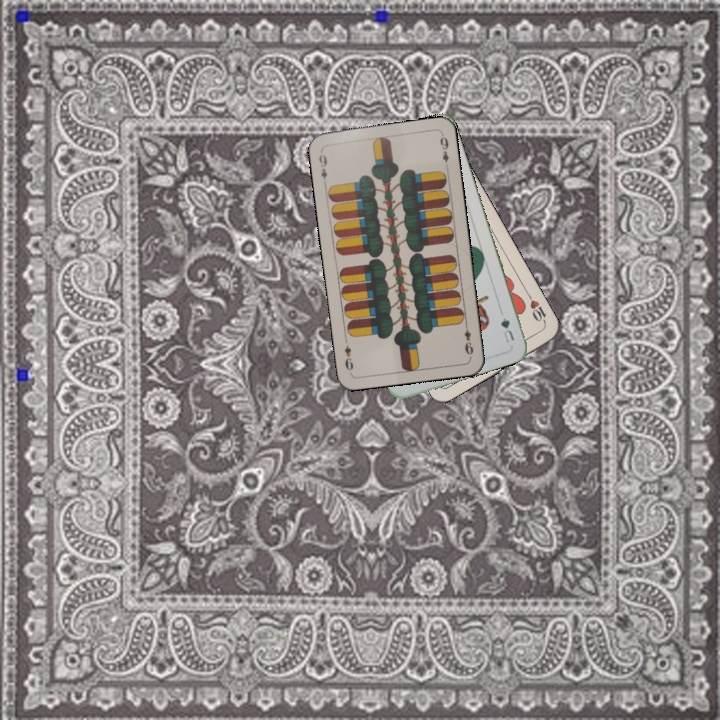E9: (460, 319, 476, 359), (315, 147, 330, 187)
GU: (497, 313, 517, 345)
H10: (524, 290, 549, 328)
